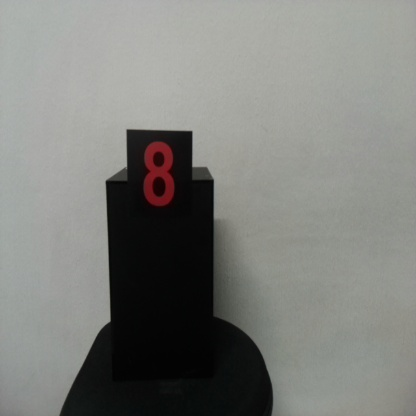id_8: (126, 130, 193, 237)
